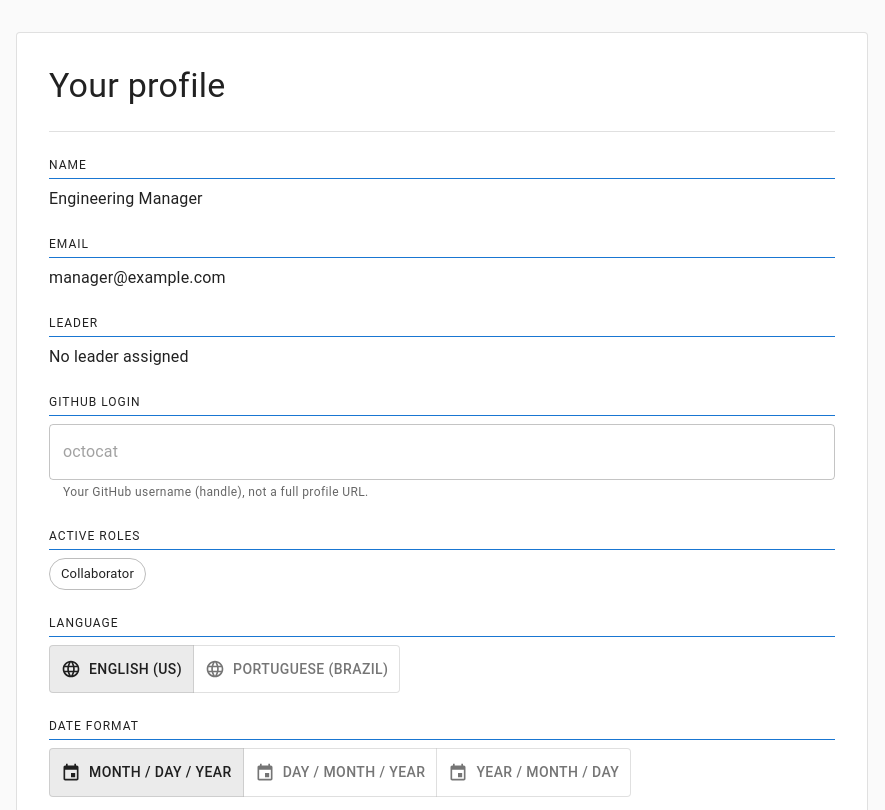
Test case: US2 profile language › switches UI to Portuguese after saving pt-BR selection
Click the button "Portuguese (Brazil)" at x=297, y=669, box [193, 645, 400, 693]
(page scrolled)
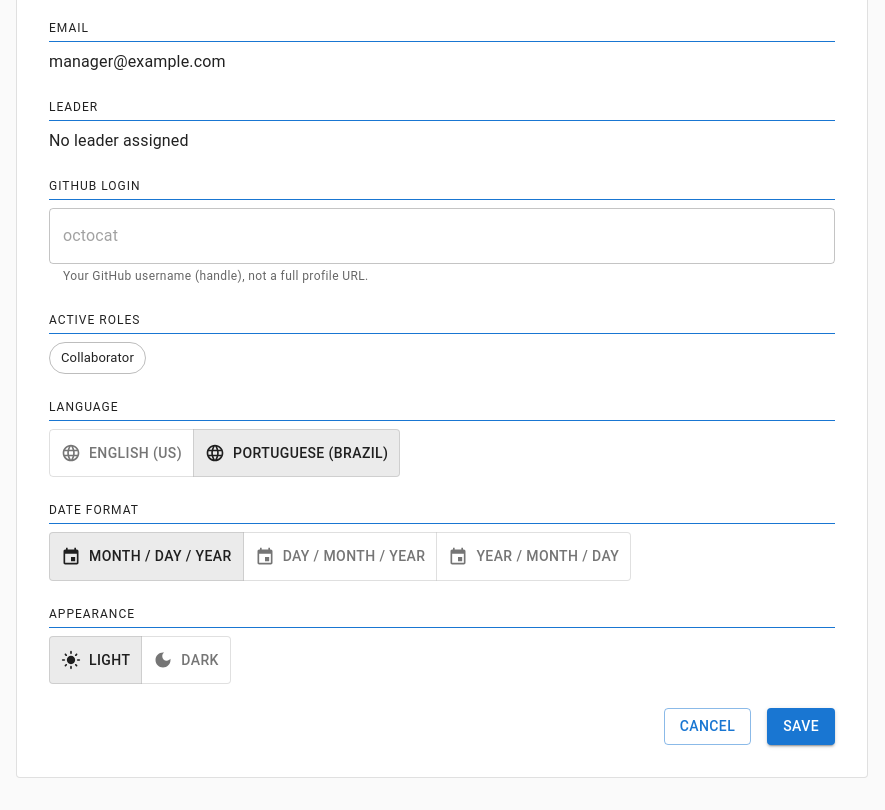
Click the button "Save" at x=801, y=727, box [767, 708, 835, 745]
(page scrolled)
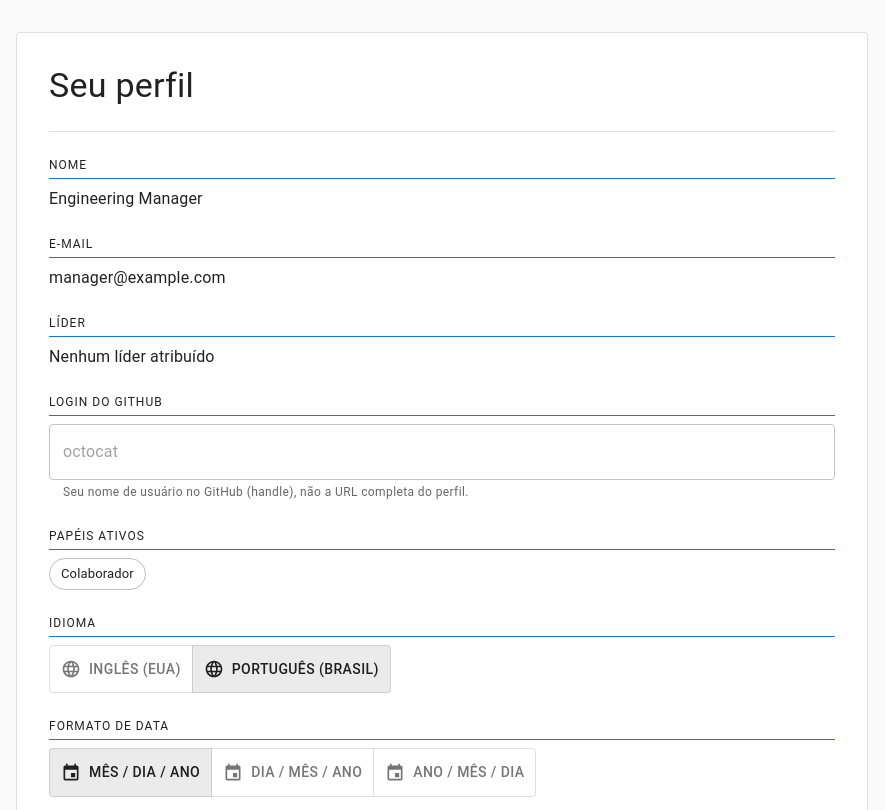
Expected: the heading "Seu perfil" is shown, [49, 65, 194, 105]
